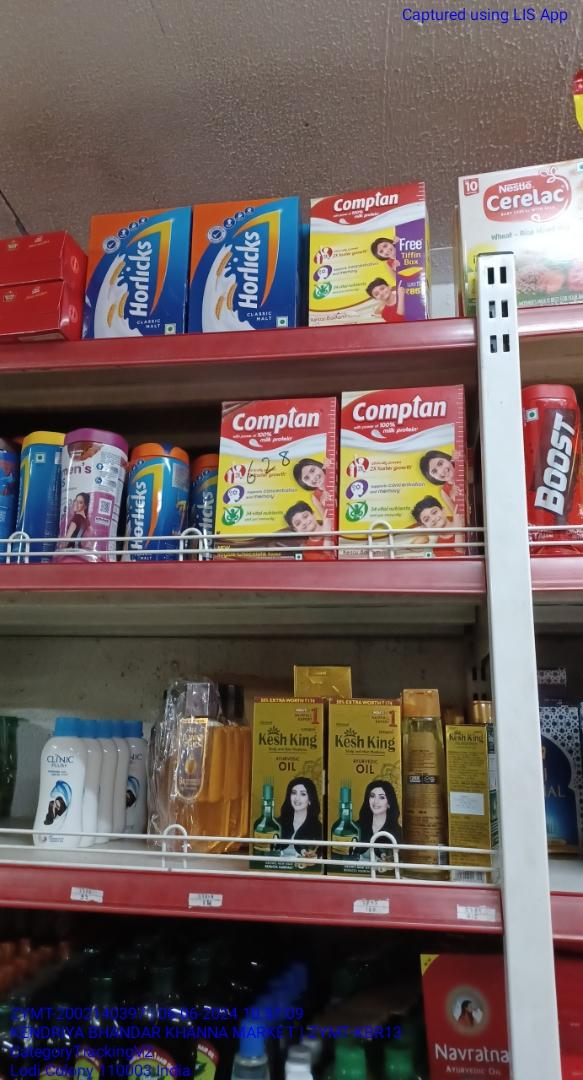COMPLAN_KESAR_BADAM_500_GMS_PACK: (343, 392, 463, 563)
